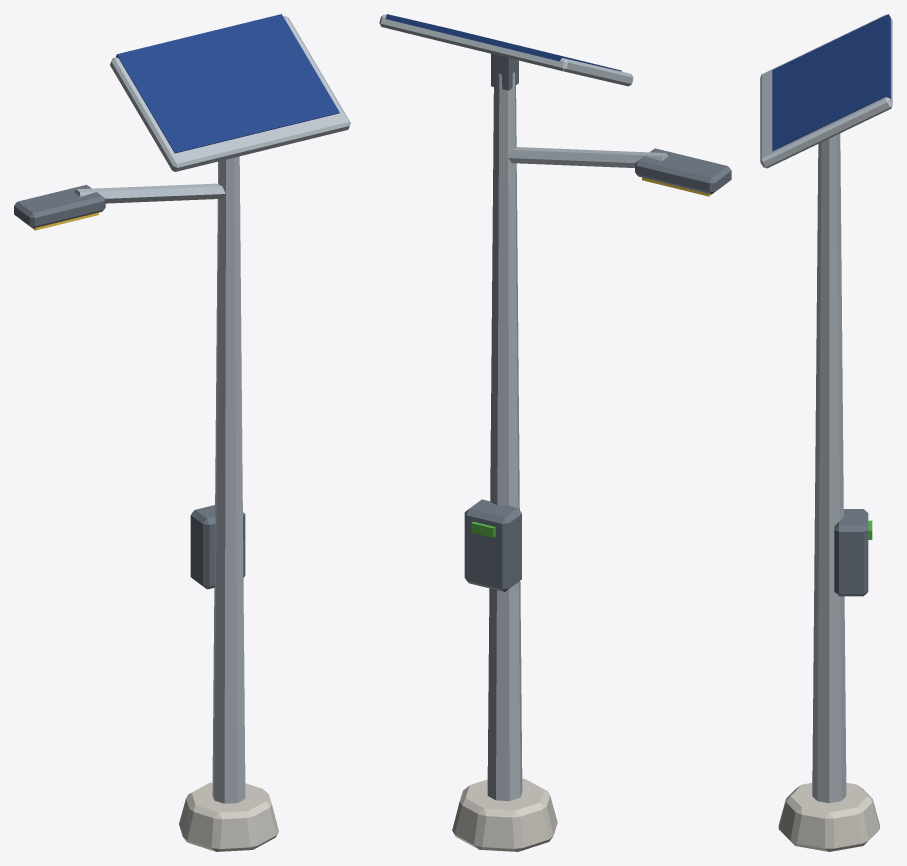
The model's file is poste_solar.glb.
3 renders of one model, left to right at view 1: azimuth 30°, elevation 25°; view 2: azimuth 150°, elevation 25°; view 3: azimuth 270°, elevation 25°, orthographic. The views are drawn at different scales.
Visible parts, largest first — view 1: corpo; view 2: corpo; view 3: corpo.
Boxes of the visible parts, box(x1,y1,x2,y2) form: corpo: box(14, 14, 350, 851); corpo: box(379, 14, 731, 851); corpo: box(760, 14, 892, 851).
Size of the model in its own units: 0.7 by 1.76 by 0.271.
